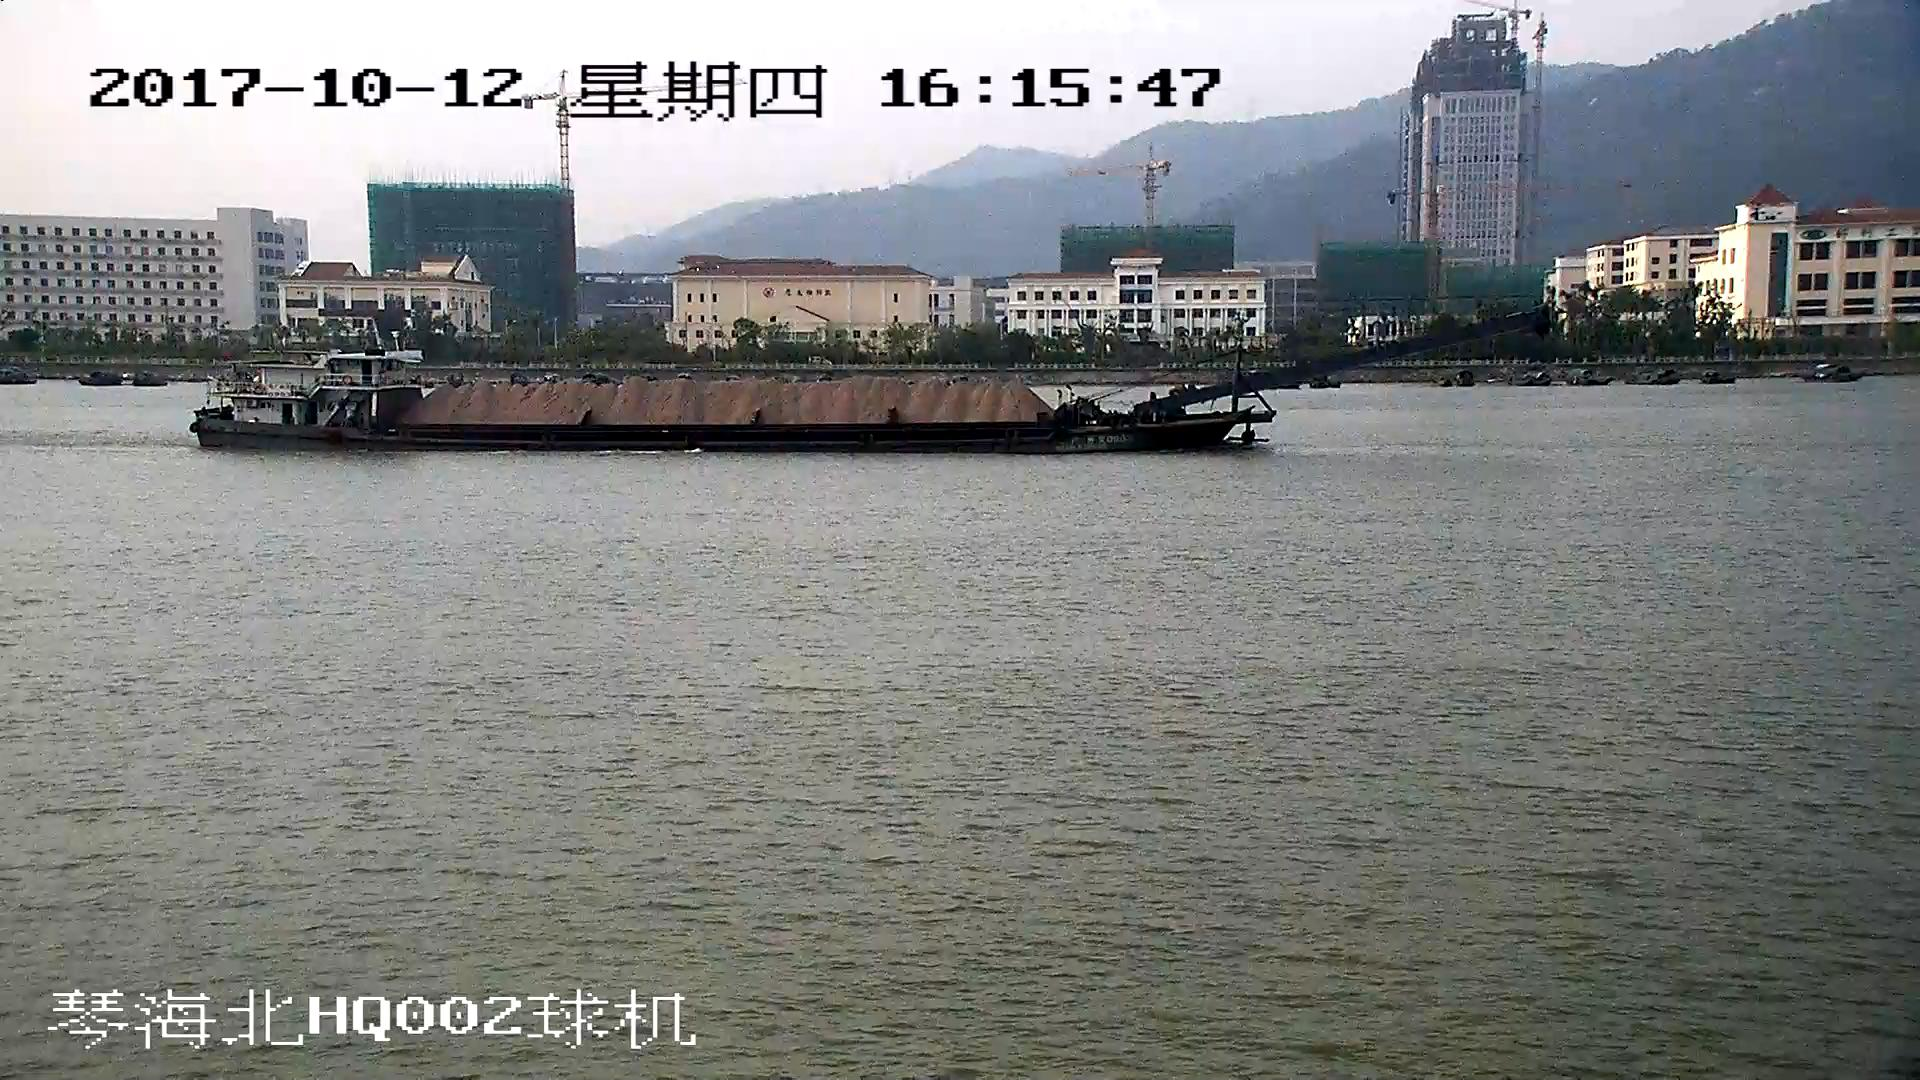ore carrier: (194, 305, 1548, 452)
